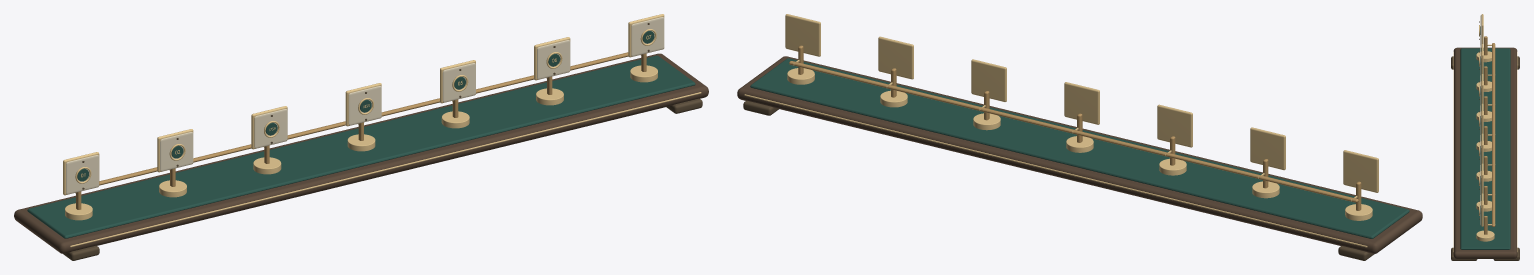
The model's file is tefe-timeline-display.glb.
3 renders of one model, left to right at view 1: azimuth 30°, elevation 25°; view 2: azimuth 150°, elevation 25°; view 3: azimuth 270°, elevation 25°, orthographic. The views are drawn at different scales.
Visible parts, largest first — view 1: DISPLAY · inset forest enamel, DISPLAY · walnut exhibition plinth, DISPLAY · continuous chronology rail, DISPLAY · front brass rule, MARKER_02_missoes · blank face, MARKER_06_ciencia · blank face, MARKER_07_tefe-hoje · blank face, MARKER_03_vila-de-ega · blank face, MARKER_04_cidade-de-tefe · blank face, MARKER_05_desenvolvimento · blank face, MARKER_01_antes-da-cidade · blank face, MARKER_03_vila-de-ega · foot (+5 smaller); view 2: DISPLAY · inset forest enamel, DISPLAY · walnut exhibition plinth, DISPLAY · continuous chronology rail, DISPLAY · rear brass rule, MARKER_07_tefe-hoje · face frame, MARKER_01_antes-da-cidade · face frame, MARKER_02_missoes · face frame, MARKER_06_ciencia · face frame, MARKER_04_cidade-de-tefe · face frame, MARKER_05_desenvolvimento · face frame, MARKER_03_vila-de-ega · face frame; view 3: DISPLAY · inset forest enamel, DISPLAY · walnut exhibition plinth, DISPLAY · continuous chronology rail, DISPLAY · front brass rule, DISPLAY · rear brass rule, MARKER_07_tefe-hoje · foot, MARKER_01_antes-da-cidade · foot, MARKER_06_ciencia · foot, MARKER_05_desenvolvimento · foot, MARKER_04_cidade-de-tefe · foot, MARKER_03_vila-de-ega · foot, MARKER_02_missoes · foot (+16 smaller).
Part boxes in pixels (left/top/right/bottom): DISPLAY · inset forest enamel: left=27, top=55, right=695, bottom=238; DISPLAY · walnut exhibition plinth: left=14, top=53, right=708, bottom=253; DISPLAY · continuous chronology rail: left=99, top=52, right=628, bottom=185; DISPLAY · front brass rule: left=70, top=92, right=701, bottom=247; MARKER_02_missoes · blank face: left=160, top=132, right=193, bottom=171; MARKER_06_ciencia · blank face: left=537, top=40, right=570, bottom=79; MARKER_07_tefe-hoje · blank face: left=631, top=17, right=664, bottom=56; MARKER_03_vila-de-ega · blank face: left=254, top=109, right=287, bottom=148; MARKER_04_cidade-de-tefe · blank face: left=348, top=86, right=381, bottom=125; MARKER_05_desenvolvimento · blank face: left=442, top=63, right=475, bottom=102; MARKER_01_antes-da-cidade · blank face: left=66, top=155, right=98, bottom=194; MARKER_03_vila-de-ega · foot: left=253, top=157, right=281, bottom=174; DISPLAY · inset forest enamel: left=750, top=58, right=1409, bottom=238; DISPLAY · walnut exhibition plinth: left=737, top=56, right=1422, bottom=253; DISPLAY · continuous chronology rail: left=789, top=61, right=1358, bottom=202; DISPLAY · rear brass rule: left=744, top=94, right=1367, bottom=247; MARKER_07_tefe-hoje · face frame: left=785, top=14, right=820, bottom=56; MARKER_01_antes-da-cidade · face frame: left=1343, top=150, right=1378, bottom=192; MARKER_02_missoes · face frame: left=1250, top=127, right=1285, bottom=170; MARKER_06_ciencia · face frame: left=878, top=36, right=913, bottom=79; MARKER_04_cidade-de-tefe · face frame: left=1064, top=82, right=1099, bottom=124; MARKER_05_desenvolvimento · face frame: left=971, top=59, right=1006, bottom=101; MARKER_03_vila-de-ega · face frame: left=1157, top=104, right=1192, bottom=147; DISPLAY · inset forest enamel: left=1460, top=48, right=1510, bottom=249; DISPLAY · walnut exhibition plinth: left=1453, top=47, right=1517, bottom=258; DISPLAY · continuous chronology rail: left=1492, top=43, right=1495, bottom=226; DISPLAY · front brass rule: left=1453, top=52, right=1453, bottom=251; DISPLAY · rear brass rule: left=1517, top=52, right=1517, bottom=251; MARKER_07_tefe-hoje · foot: left=1476, top=230, right=1494, bottom=241; MARKER_01_antes-da-cidade · foot: left=1476, top=51, right=1491, bottom=62; MARKER_06_ciencia · foot: left=1476, top=200, right=1491, bottom=211; MARKER_05_desenvolvimento · foot: left=1476, top=171, right=1491, bottom=181; MARKER_04_cidade-de-tefe · foot: left=1476, top=141, right=1491, bottom=151; MARKER_03_vila-de-ega · foot: left=1476, top=111, right=1491, bottom=121; MARKER_02_missoes · foot: left=1476, top=81, right=1491, bottom=91.
Bounding box in the file's own units: 9.65 × 1.21 × 1.36.
